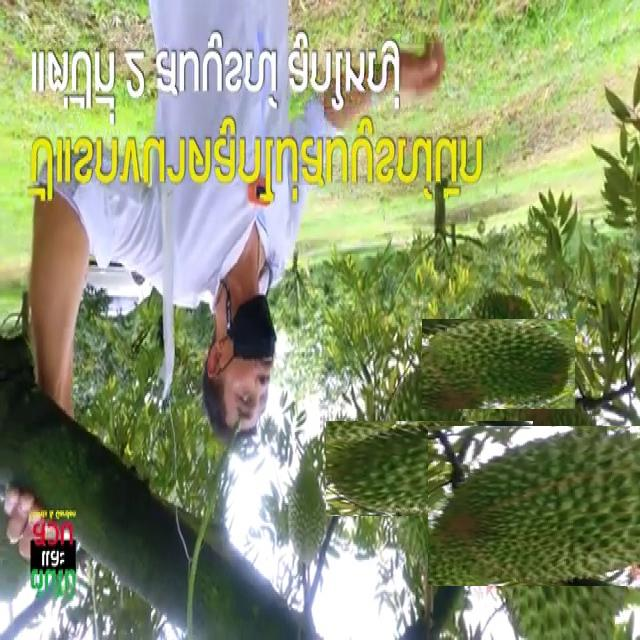durian: (453, 400, 640, 613), (354, 392, 505, 544), (438, 304, 560, 425), (286, 459, 331, 565)
